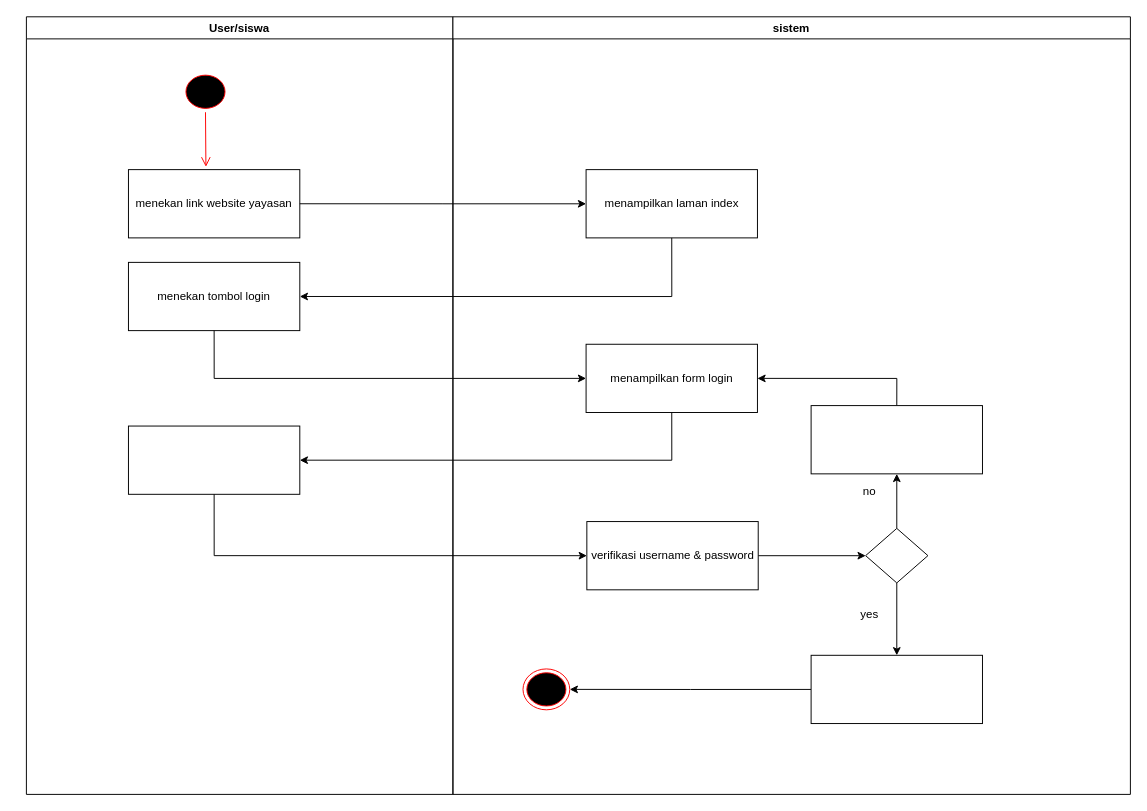
Some shapes in this 1147 by 811 pixel diagram are drawn without their labels. Here are the shapes that lost their labels. From the top down, the centre of each, then its label:
At point (213, 459): "memasukan username & password".
At point (896, 439): "menampilkan error".
At point (896, 689): "Menampilkan Menu utama".
